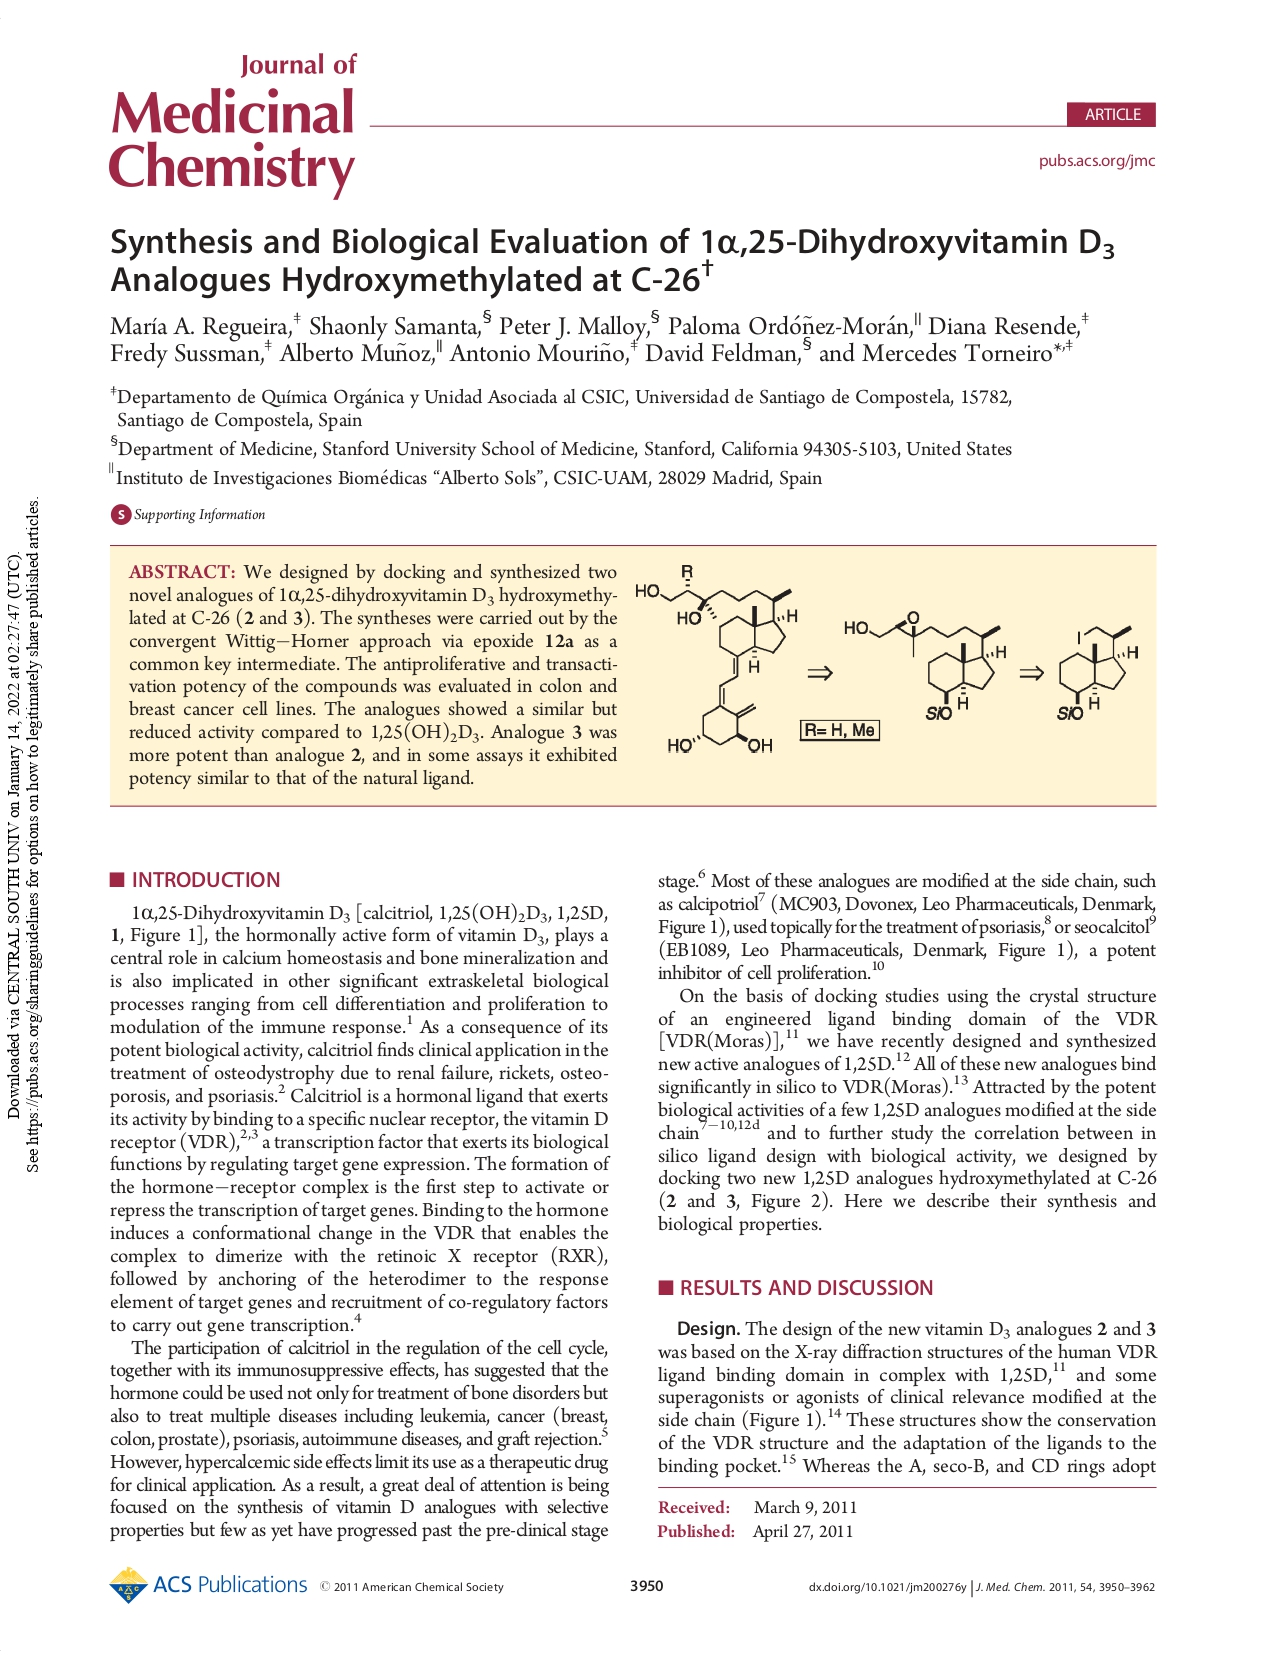exist_molecular: (633, 561, 801, 758), (842, 606, 1009, 723), (1052, 621, 1141, 725)
